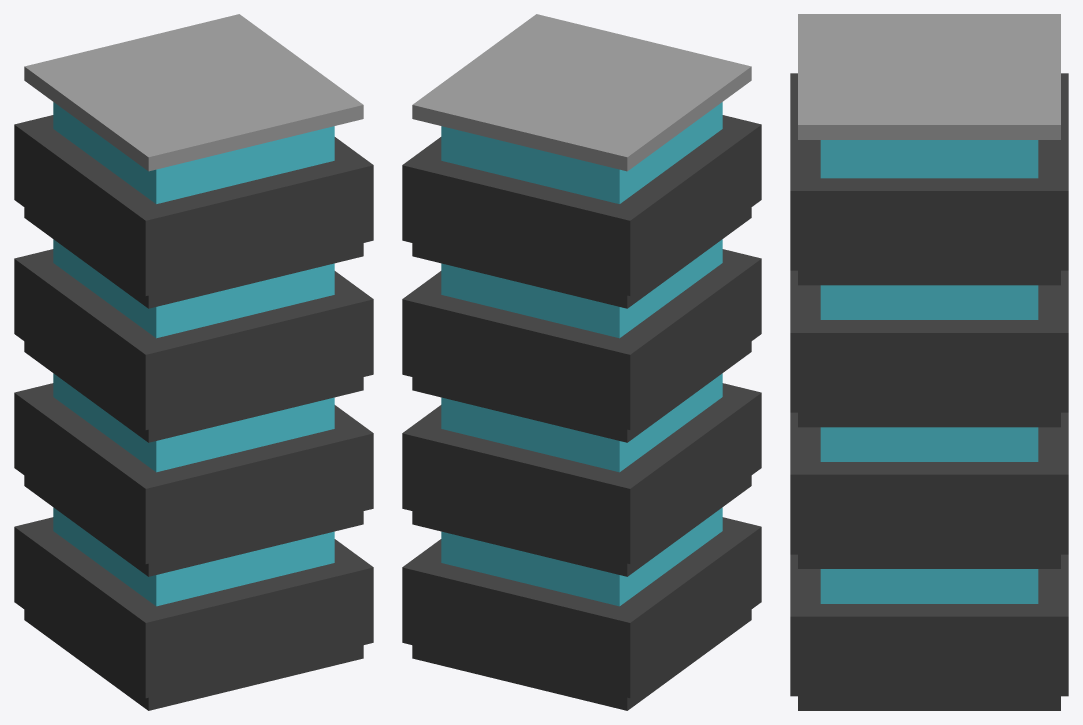
File: SM_Building_002.fbx
3 views of the same model, side by side, from view 1: azimuth 30°, elevation 25°; view 2: azimuth 150°, elevation 25°; view 3: azimuth 270°, elevation 25° (orthographic). The views are drawn at different scales.
Parts seen in each view (by area): view 1: SM_Building_002.001; view 2: SM_Building_002.001; view 3: SM_Building_002.001.
Part boxes in pixels (x1,y1,x2,y2): SM_Building_002.001: [14, 14, 373, 710]; SM_Building_002.001: [402, 14, 761, 710]; SM_Building_002.001: [790, 14, 1068, 710].
Size of the model in its own units: 4 by 9.29 by 4.
